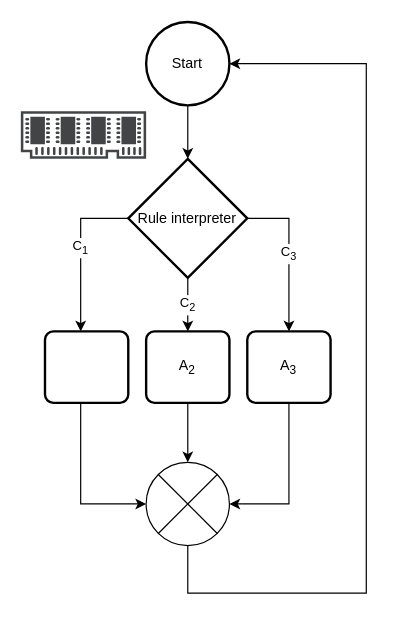
Image size: 396x624. Some labels were removed from this diagram. Here are the shapes that lost their labels. From the top down, the box of each, then its label:
(20, 111, 146, 158): Working memory
(43, 330, 129, 403): A 1
